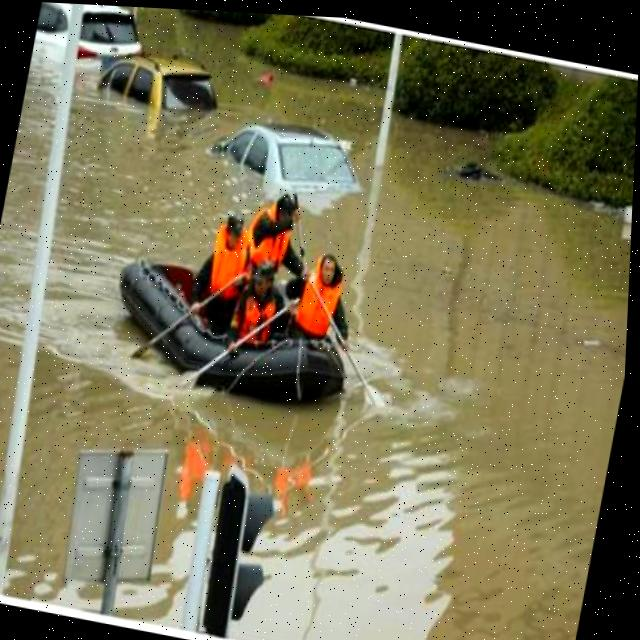rescuer: (180, 207, 258, 341), (282, 236, 362, 355), (222, 248, 299, 362), (243, 175, 315, 277)
